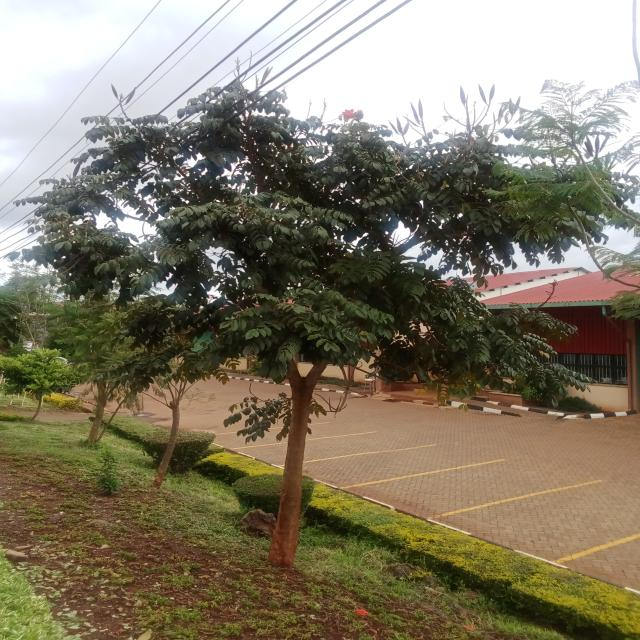Polyscias Kikuyensis: (0, 80, 640, 582)
